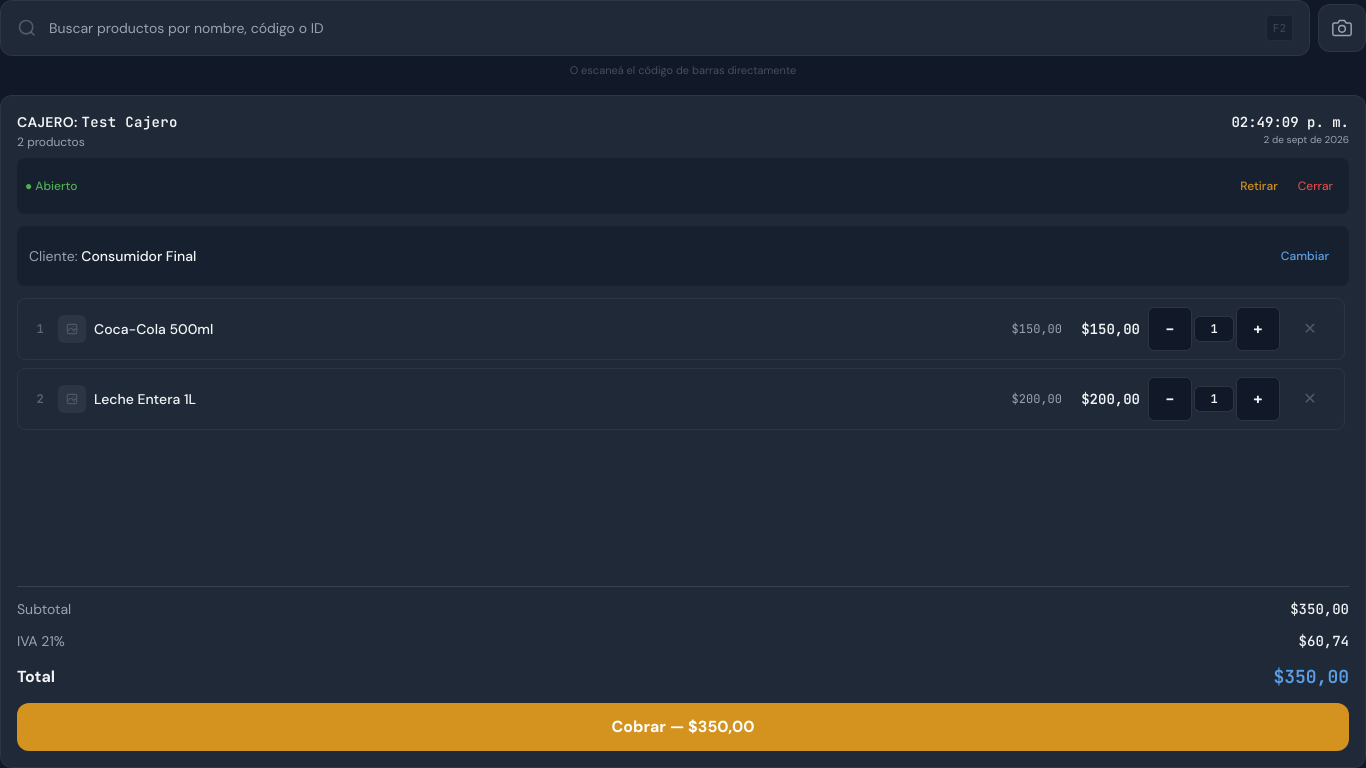
Test: Mixed payment — integration › 3.4 shows cash/card inputs when Mixto is selected
Step 1. Press F1
(page scrolled)
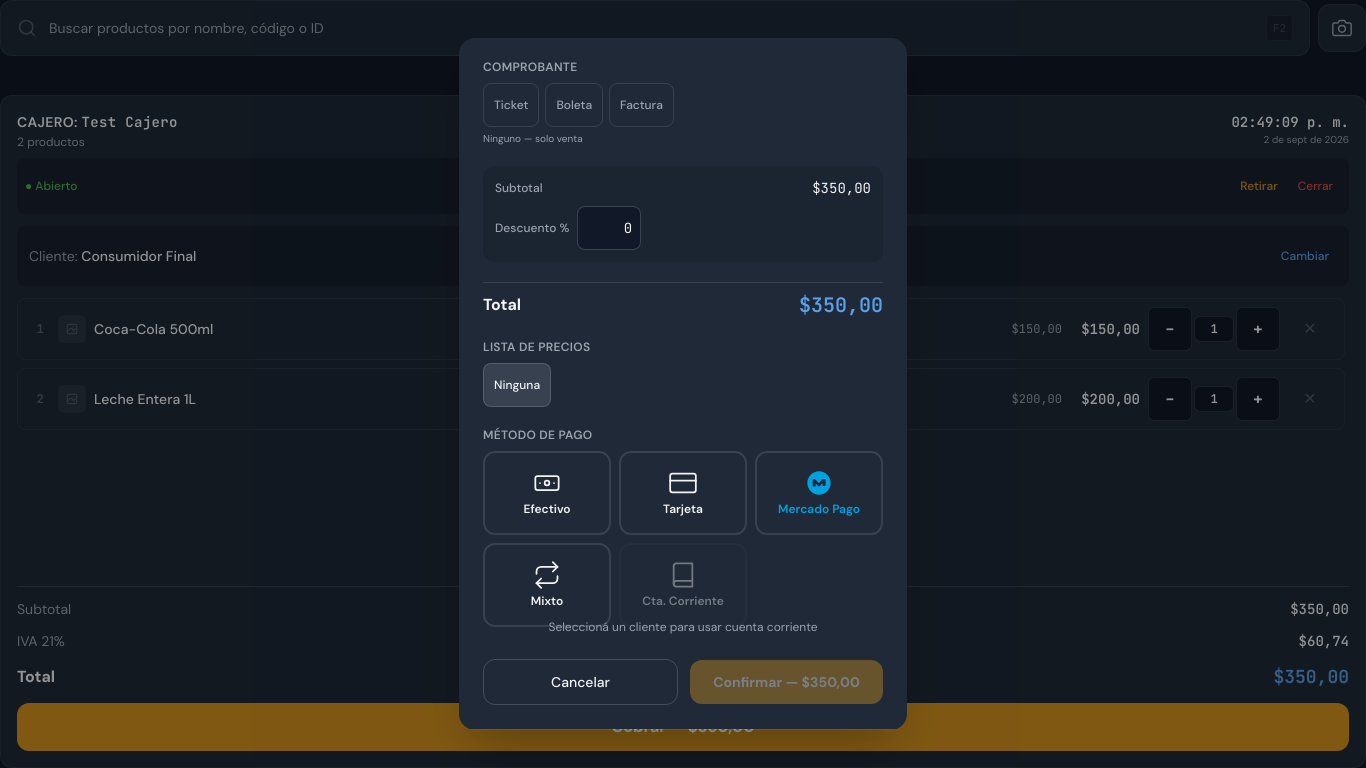
Step 2. Click the button "Mixto" → [547, 585], box [483,543,611,627]
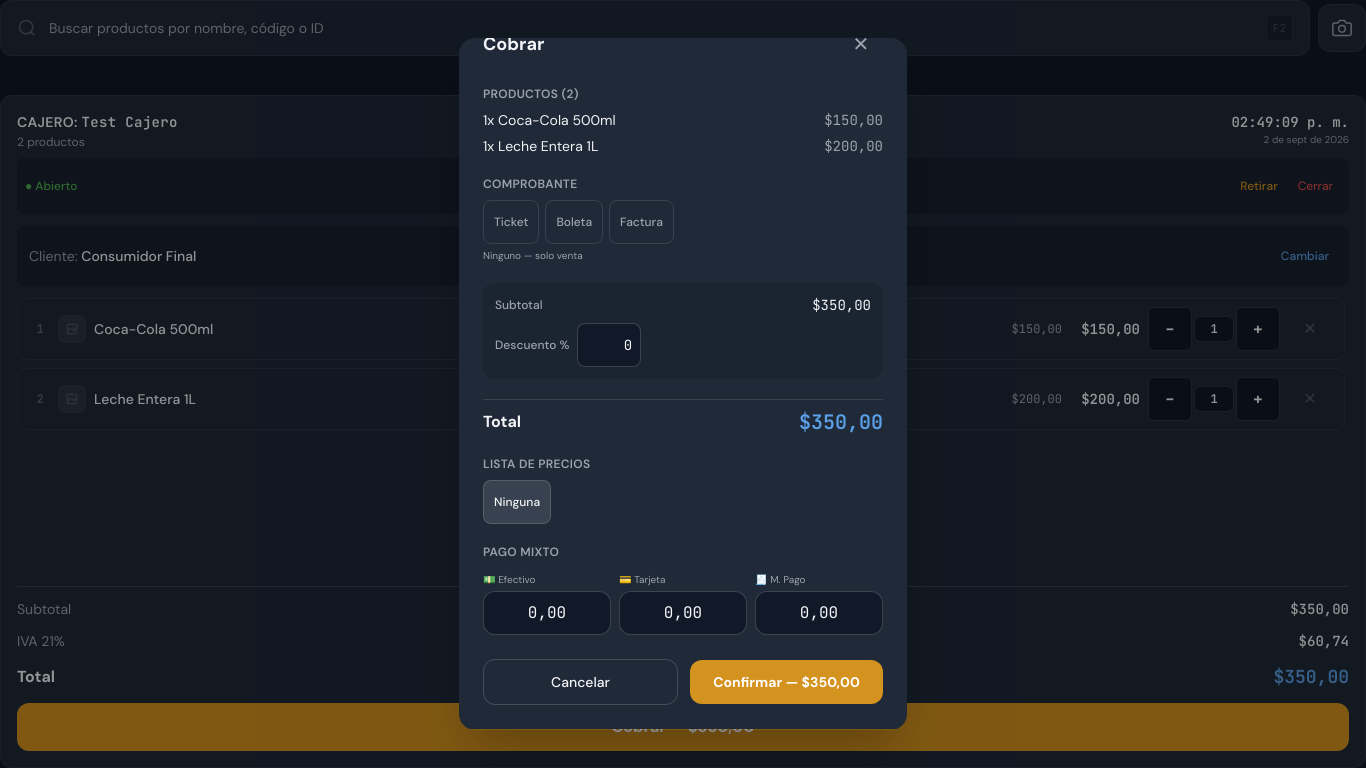
Expected: the field labelled "💵 Efectivo" is shown, [483,591,611,635]
Expected: the field labelled "💳 Tarjeta" is shown, [619,591,747,635]
Expected: the field labelled "🧾 M. Pago" is shown, [755,591,883,635]
